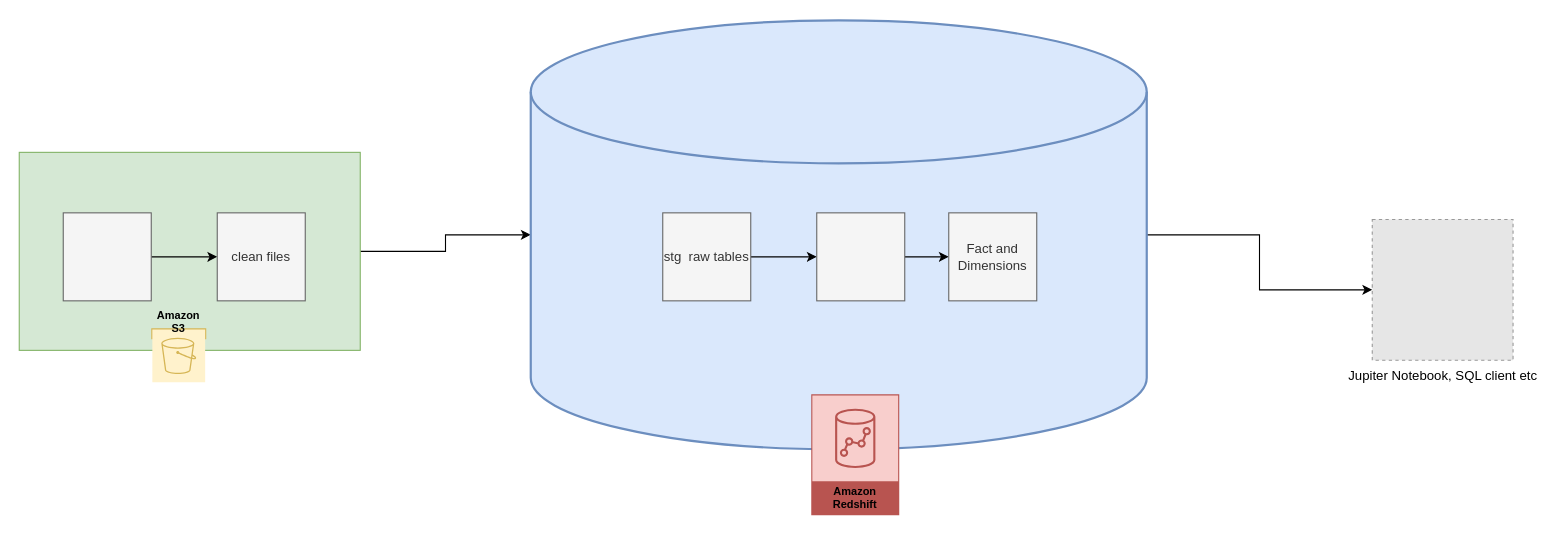
Some shapes in this 1557 by 535 pixel diagram are drawn without their labels. Grey dashed boxes stand in for pictures. Here are the shapes that lost their labels. From the top down, the centre of each, then its label:
At [106,256]: "raw files".
At [860,256]: "stg clean tables".
